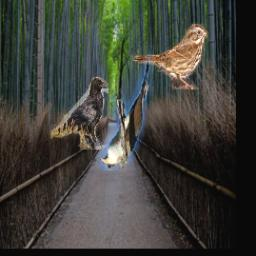Crow: (51, 78, 109, 151)
Cuckoo: (99, 40, 154, 172)
Sparrow: (133, 22, 208, 90)
